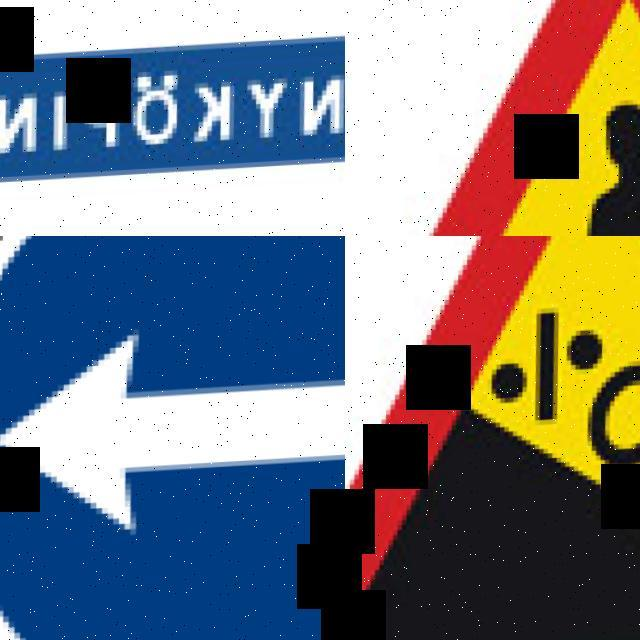142: (345, 0, 640, 236)
173: (0, 25, 345, 198)
Steep uphill: (345, 236, 640, 640)
Turn Right: (0, 236, 345, 640)
